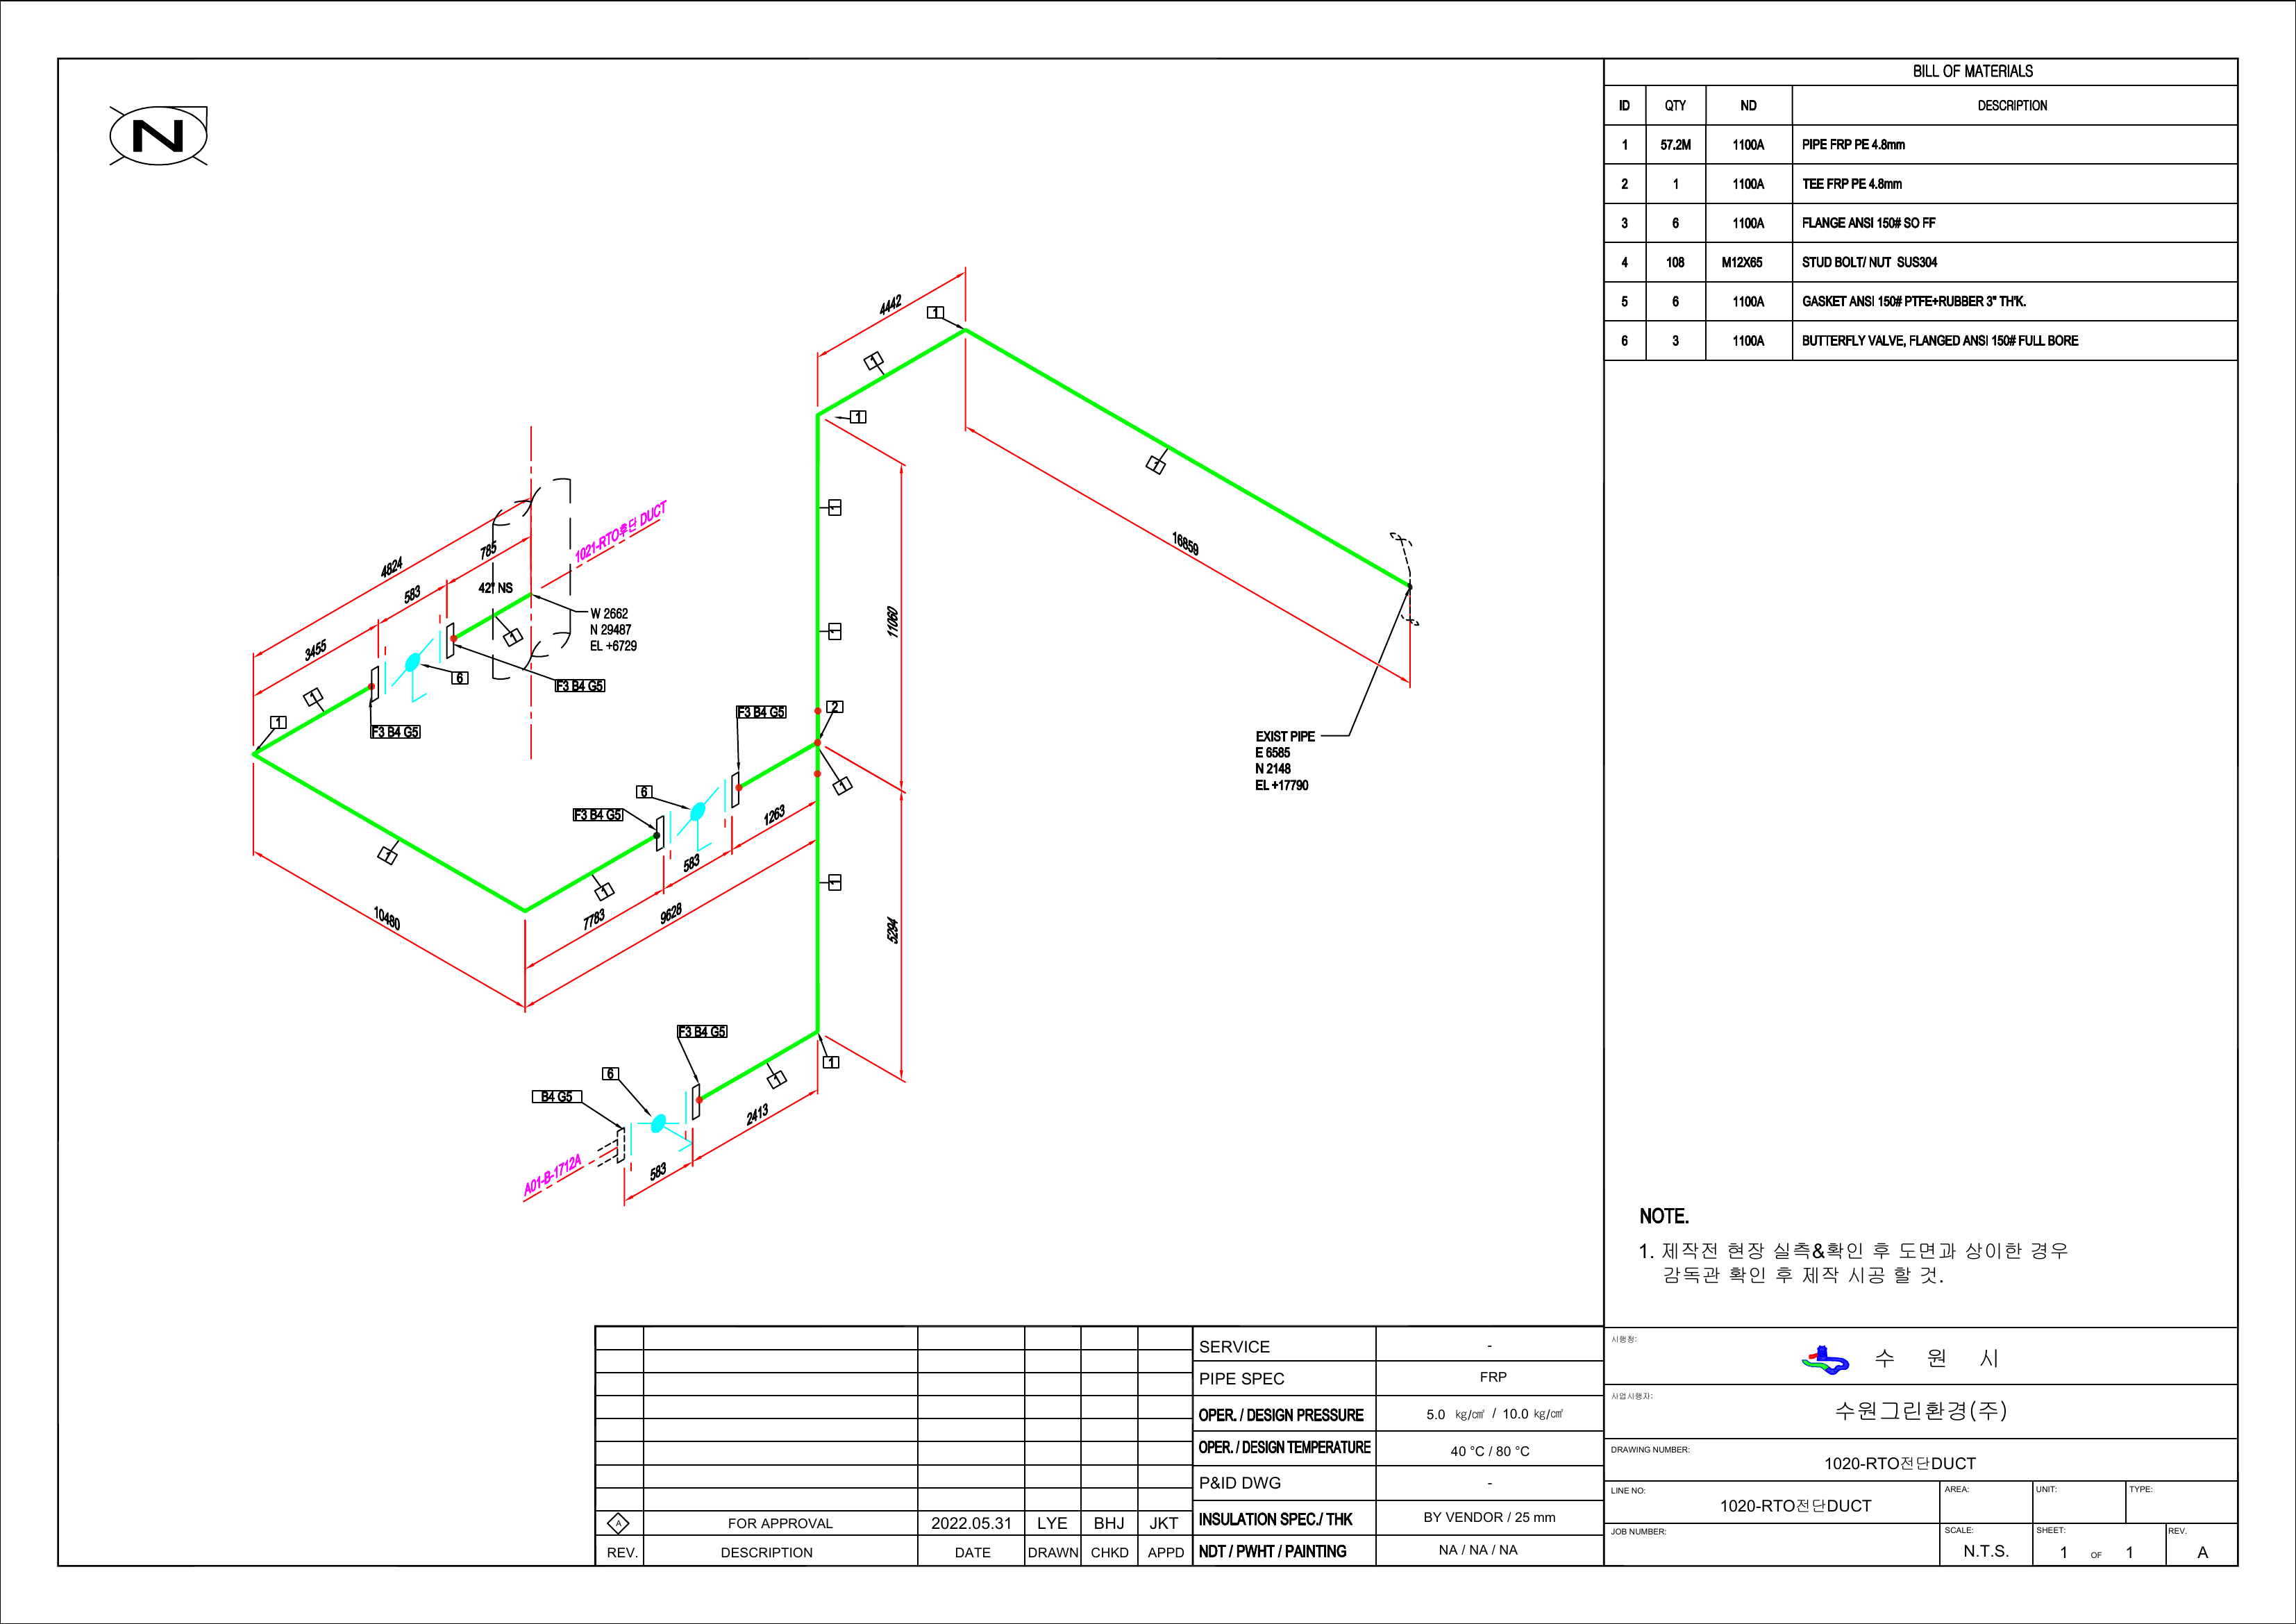table: (1600, 47, 2242, 366)
